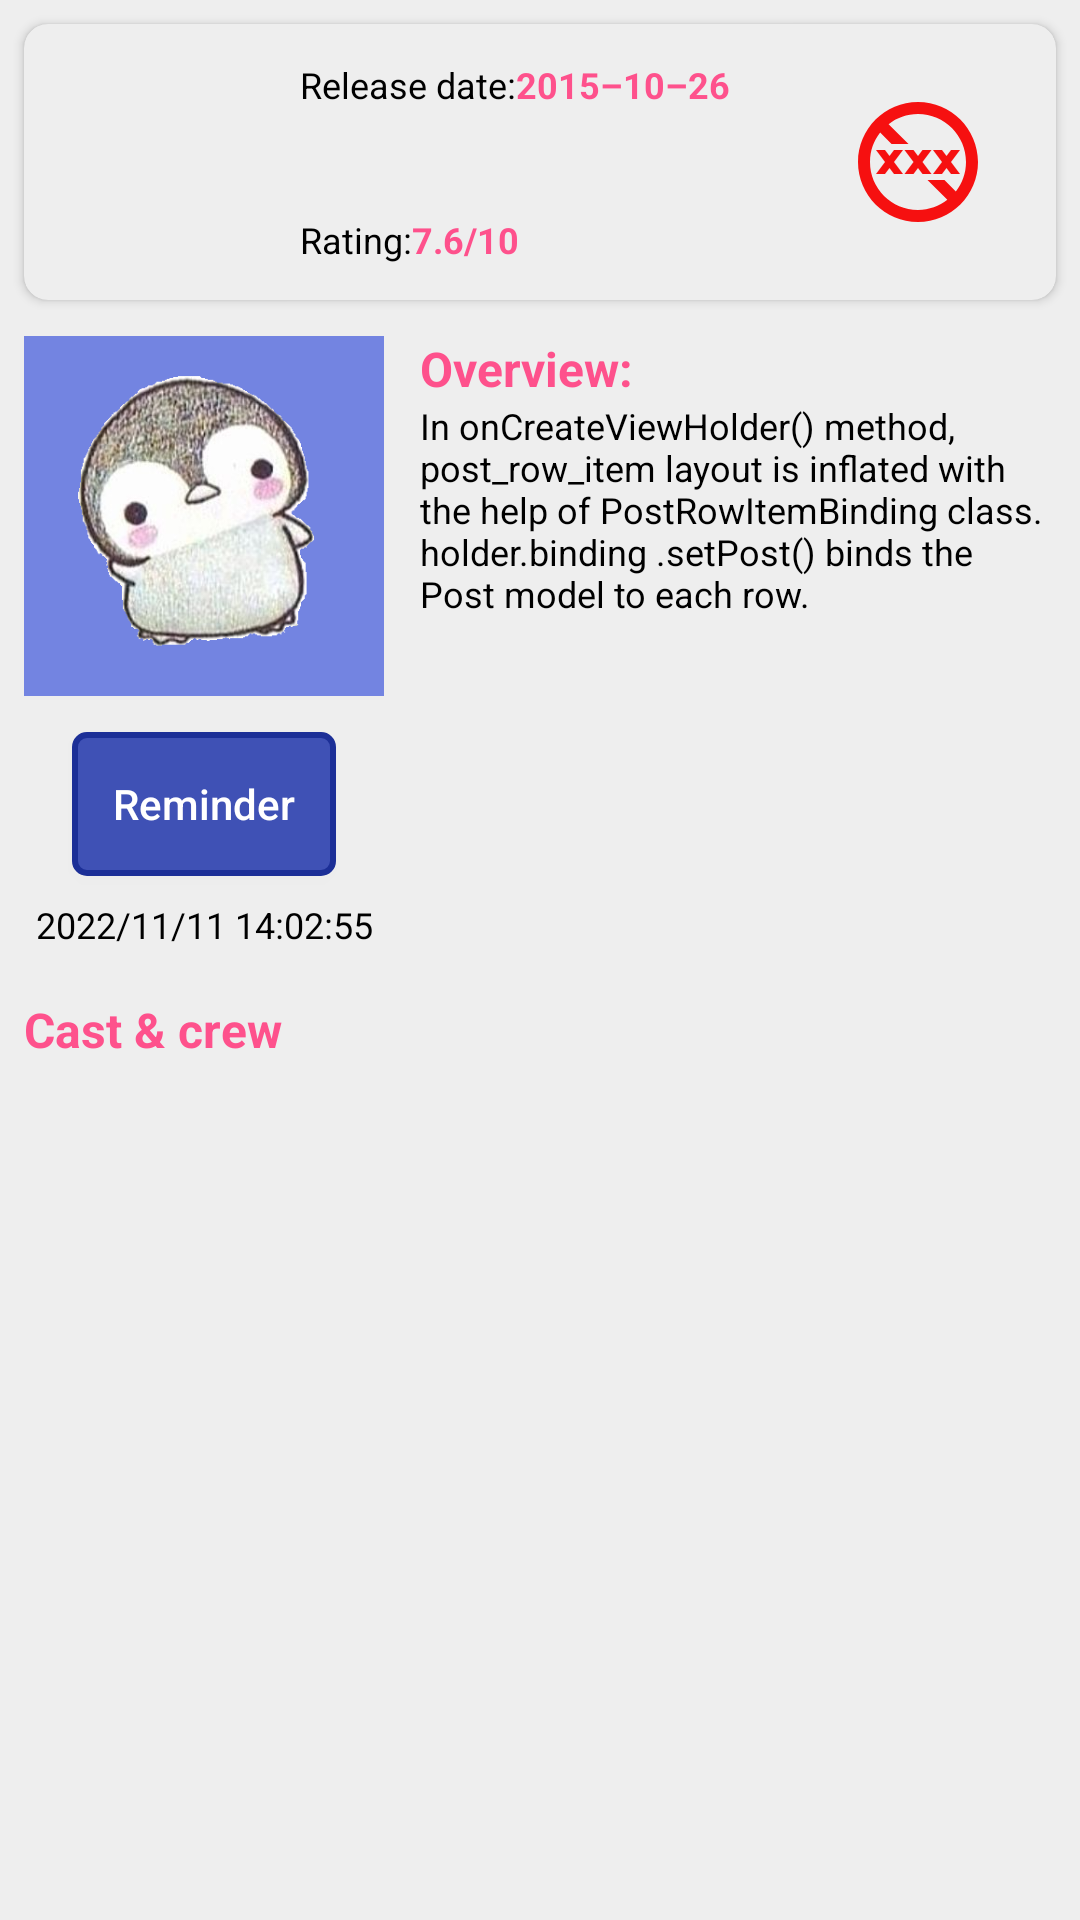

Named icons in this screenshot (1080 x 1920) and their bounding boxes, (x1, y1, x2, y2):
no adult content: (858, 102, 978, 222)
